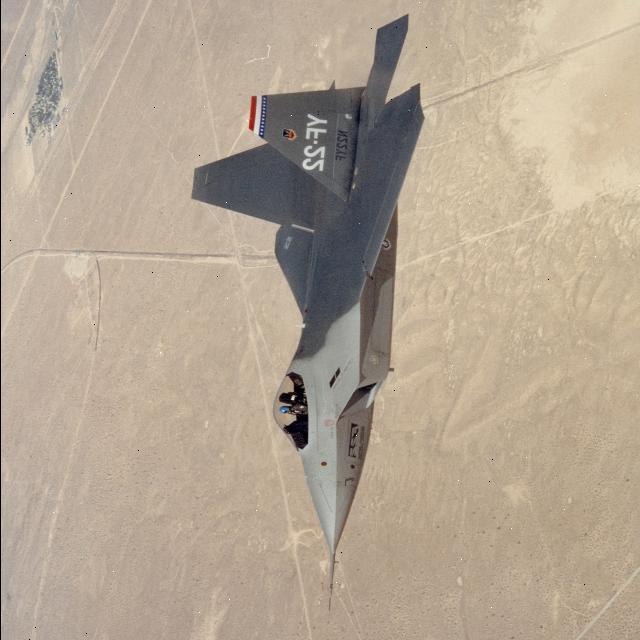F22: (166, 19, 462, 613)
